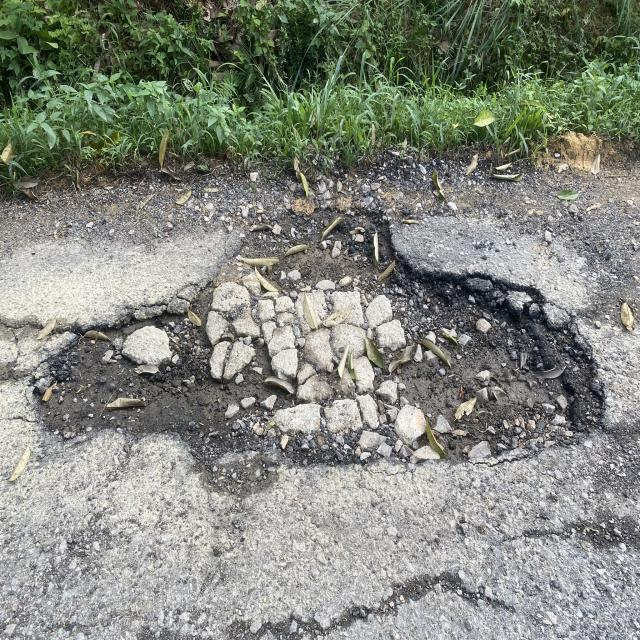pothole: (25, 227, 640, 554)
